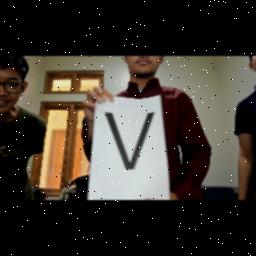v: (102, 107, 168, 175)
